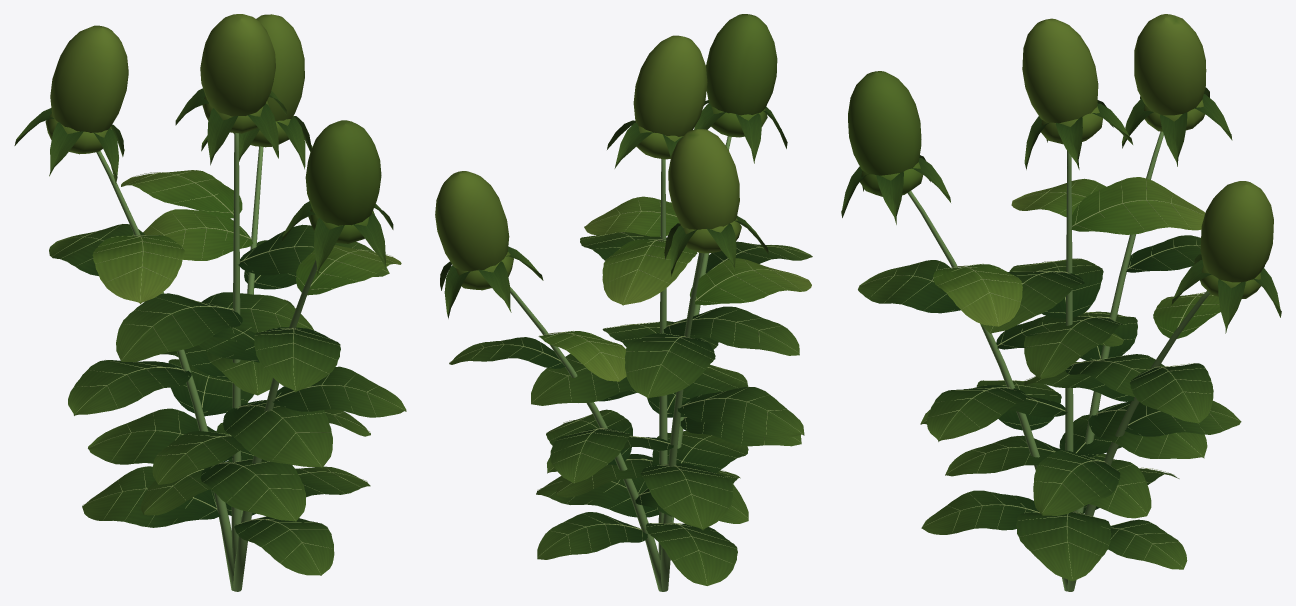
The model's file is poppy-07.glb.
3 renders of one model, left to right at view 1: azimuth 30°, elevation 25°; view 2: azimuth 150°, elevation 25°; view 3: azimuth 270°, elevation 25°, orthographic. The views are drawn at different scales.
Parts seen in each view (by area): view 1: poppy_stage_07_leaf_veins.012, poppy_stage_07_young_leaf.012, poppy_stage_07_stem_fibres.012, poppy_stage_07_raised_midveins.012; view 2: poppy_stage_07_leaf_veins.012, poppy_stage_07_young_leaf.012, poppy_stage_07_raised_midveins.012, poppy_stage_07_stem_fibres.012; view 3: poppy_stage_07_leaf_veins.012, poppy_stage_07_young_leaf.012, poppy_stage_07_raised_midveins.012, poppy_stage_07_stem_fibres.012.
Part boxes in pixels (<box>): poppy_stage_07_leaf_veins.012: <box>14,88,406,575</box>; poppy_stage_07_young_leaf.012: <box>45,14,401,303</box>; poppy_stage_07_stem_fibres.012: <box>96,133,317,591</box>; poppy_stage_07_raised_midveins.012: <box>52,170,404,574</box>; poppy_stage_07_leaf_veins.012: <box>440,100,812,585</box>; poppy_stage_07_young_leaf.012: <box>435,14,811,381</box>; poppy_stage_07_raised_midveins.012: <box>449,197,809,584</box>; poppy_stage_07_stem_fibres.012: <box>510,136,731,591</box>; poppy_stage_07_leaf_veins.012: <box>841,87,1281,581</box>; poppy_stage_07_young_leaf.012: <box>848,14,1273,338</box>; poppy_stage_07_raised_midveins.012: <box>859,179,1239,579</box>; poppy_stage_07_stem_fibres.012: <box>907,131,1210,591</box>.
Bounding box in the file's own units: 0.2777 × 0.4863 × 0.3432.
4 materials, 2 textured.
